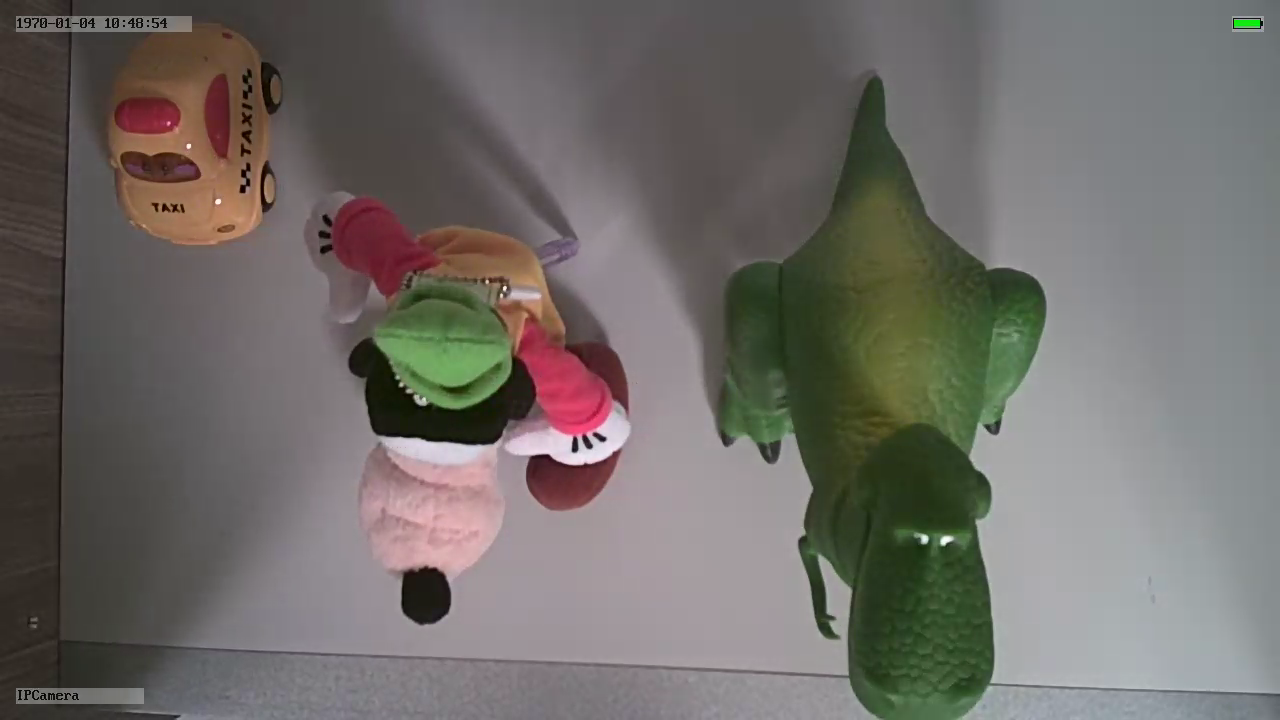goofy: (297, 190, 637, 624)
